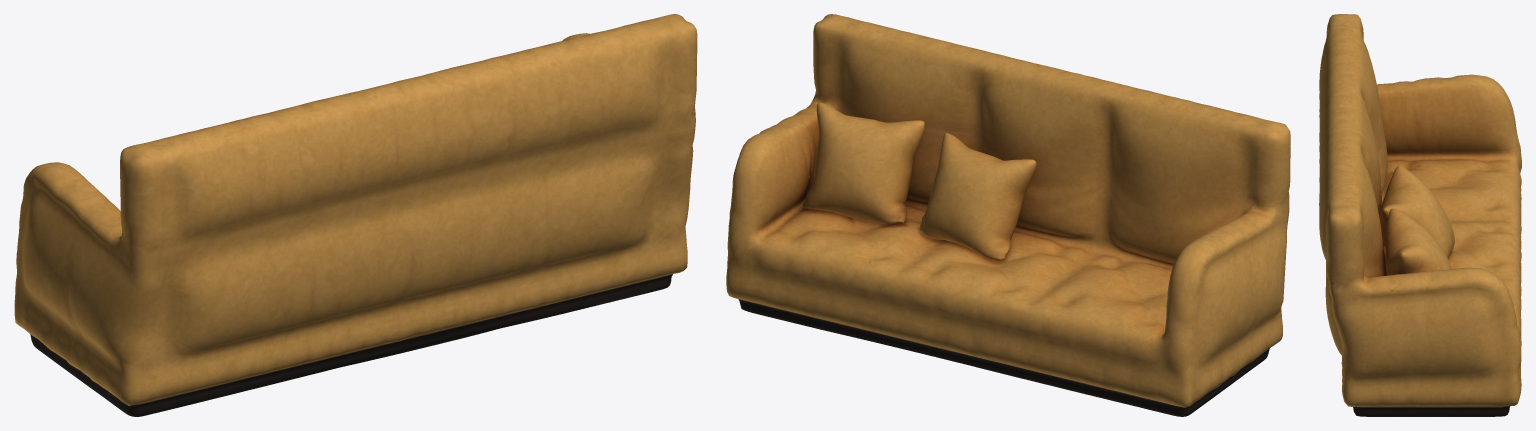
The model's file is sofa.obj.
3 renders of one model, left to right at view 1: azimuth 30°, elevation 25°; view 2: azimuth 150°, elevation 25°; view 3: azimuth 270°, elevation 25°, orthographic. The views are drawn at different scales.
Size of the model in its own units: 2.48 by 1.12 by 0.9834.
Materials: 1 (1 with a texture image).
